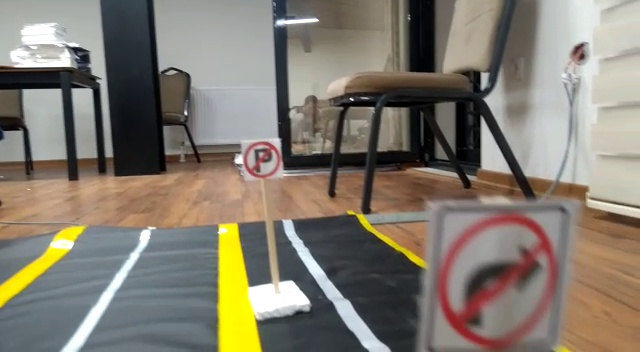park_yapilmaz: (239, 142, 285, 178)
saga_donulmez: (424, 205, 567, 350)
